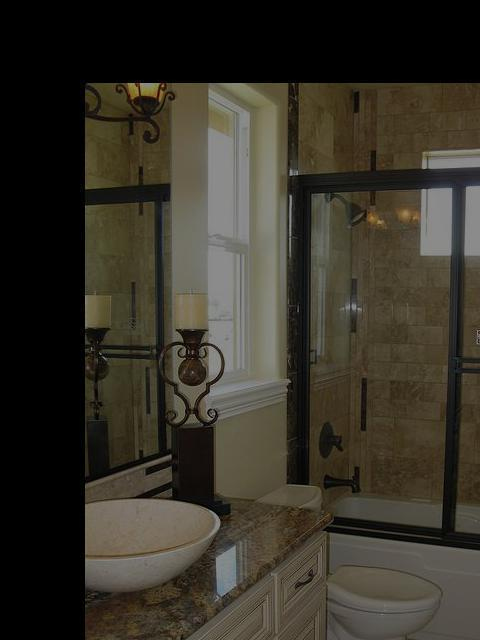Ducha: (293, 91, 480, 640)
Lavamanos: (85, 492, 227, 594)
Sanitario: (246, 478, 447, 640)
